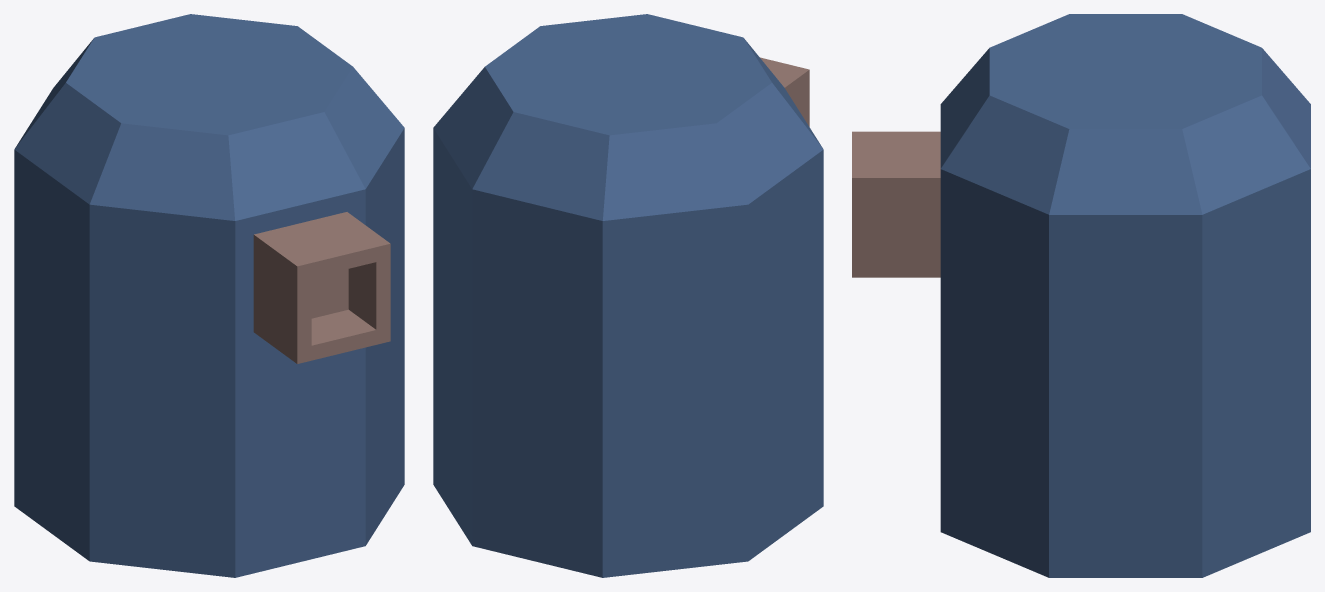
The model's file is BunkerGunAsset.fbx.
3 renders of one model, left to right at view 1: azimuth 30°, elevation 25°; view 2: azimuth 150°, elevation 25°; view 3: azimuth 270°, elevation 25°, orthographic.
Parts seen in each view (by area): view 1: BunkerGun; view 2: BunkerGun; view 3: BunkerGun.
Part boxes in pixels (x1,y1,x2,y2): BunkerGun: (14, 14, 404, 577); BunkerGun: (433, 14, 823, 577); BunkerGun: (852, 14, 1310, 577).
Bounding box in the file's own units: 92.39 × 118 × 115.
